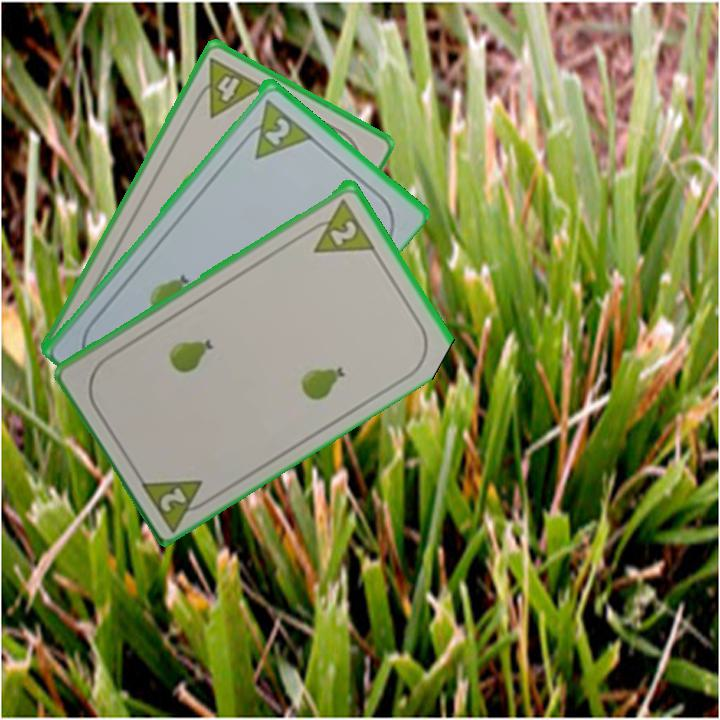2p: (136, 474, 217, 533), (300, 194, 377, 256), (260, 113, 293, 148)
4p: (188, 53, 266, 121)
